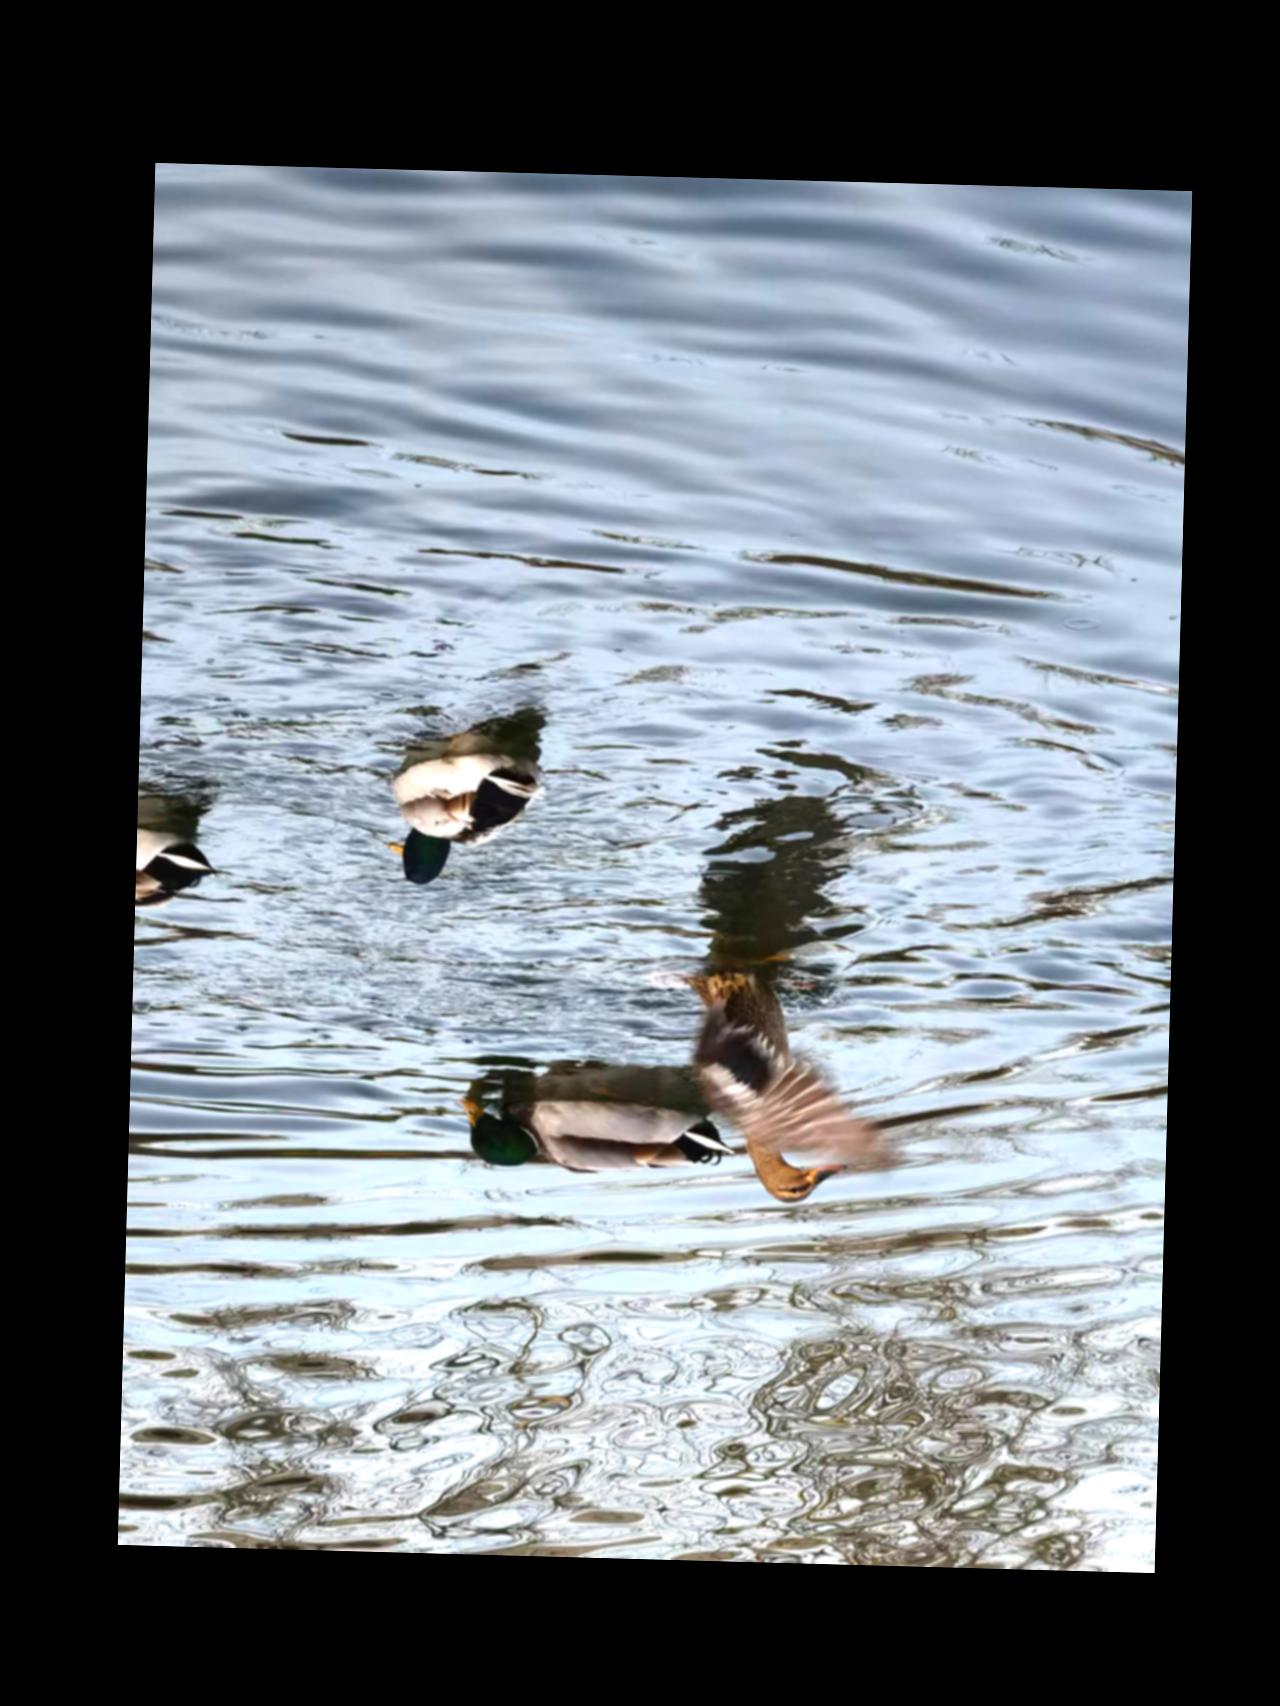duck: (674, 926, 908, 1213), (428, 1088, 735, 1201), (368, 733, 557, 891), (134, 838, 238, 906)
